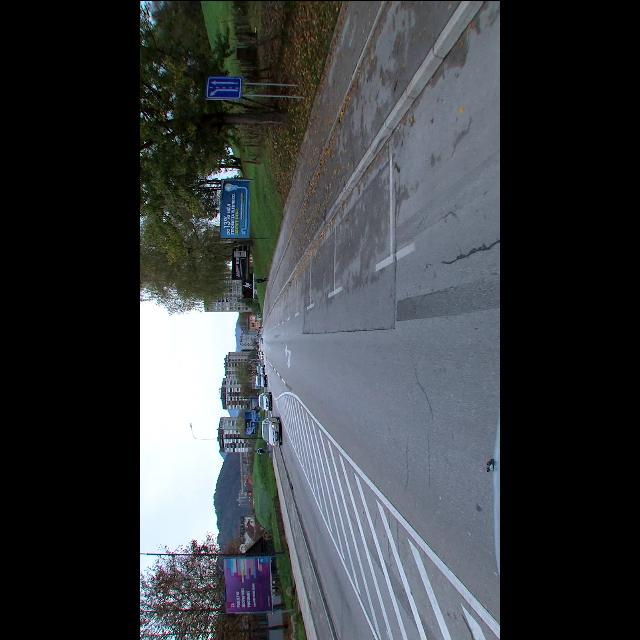Rectangle: (205, 75, 243, 97)
